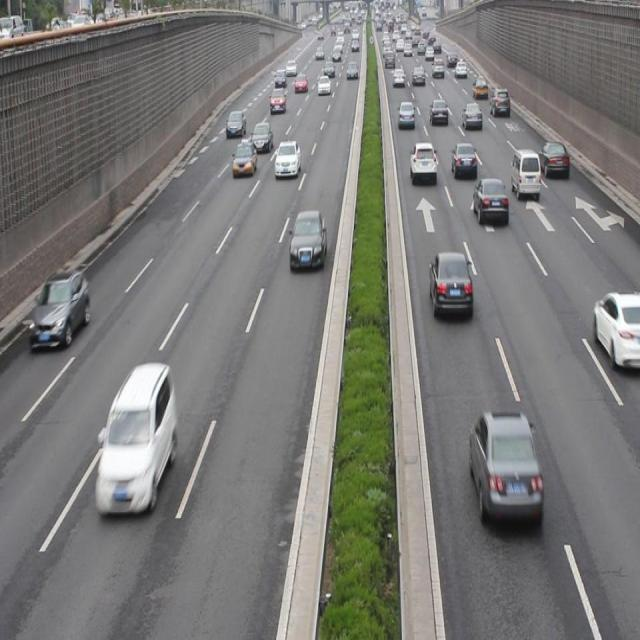car: (97, 363, 176, 513), (467, 408, 540, 524), (29, 271, 92, 351), (592, 291, 640, 369), (428, 251, 472, 320), (288, 209, 327, 270), (472, 174, 507, 225), (408, 140, 437, 184), (539, 140, 570, 180), (273, 138, 300, 180), (451, 142, 477, 182), (231, 139, 256, 174), (251, 120, 273, 154), (225, 107, 246, 138), (461, 100, 482, 130), (396, 98, 414, 130), (430, 99, 448, 126)
truck: (509, 148, 539, 198)
